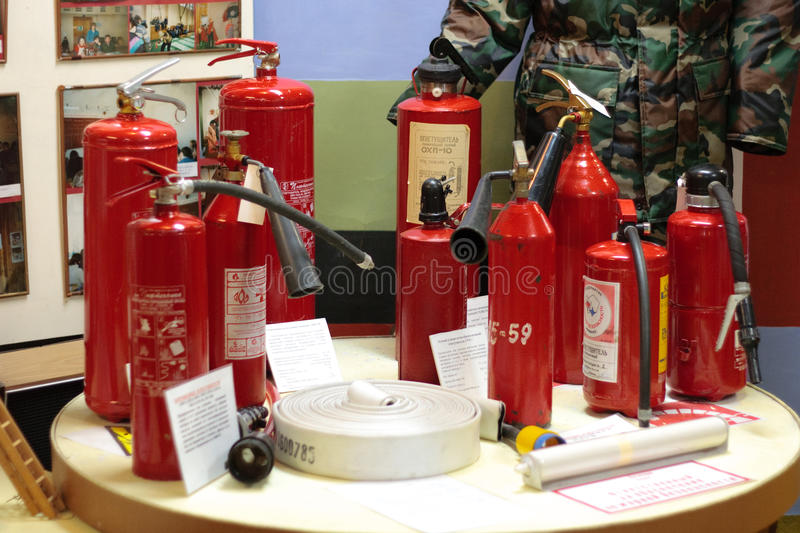fire_extinguisher: (81, 57, 188, 423), (206, 37, 320, 325), (110, 156, 211, 481), (391, 36, 485, 383), (449, 139, 561, 430), (523, 70, 620, 385), (392, 36, 484, 346), (526, 101, 620, 385), (665, 162, 755, 402), (581, 197, 670, 419), (395, 174, 484, 386)
